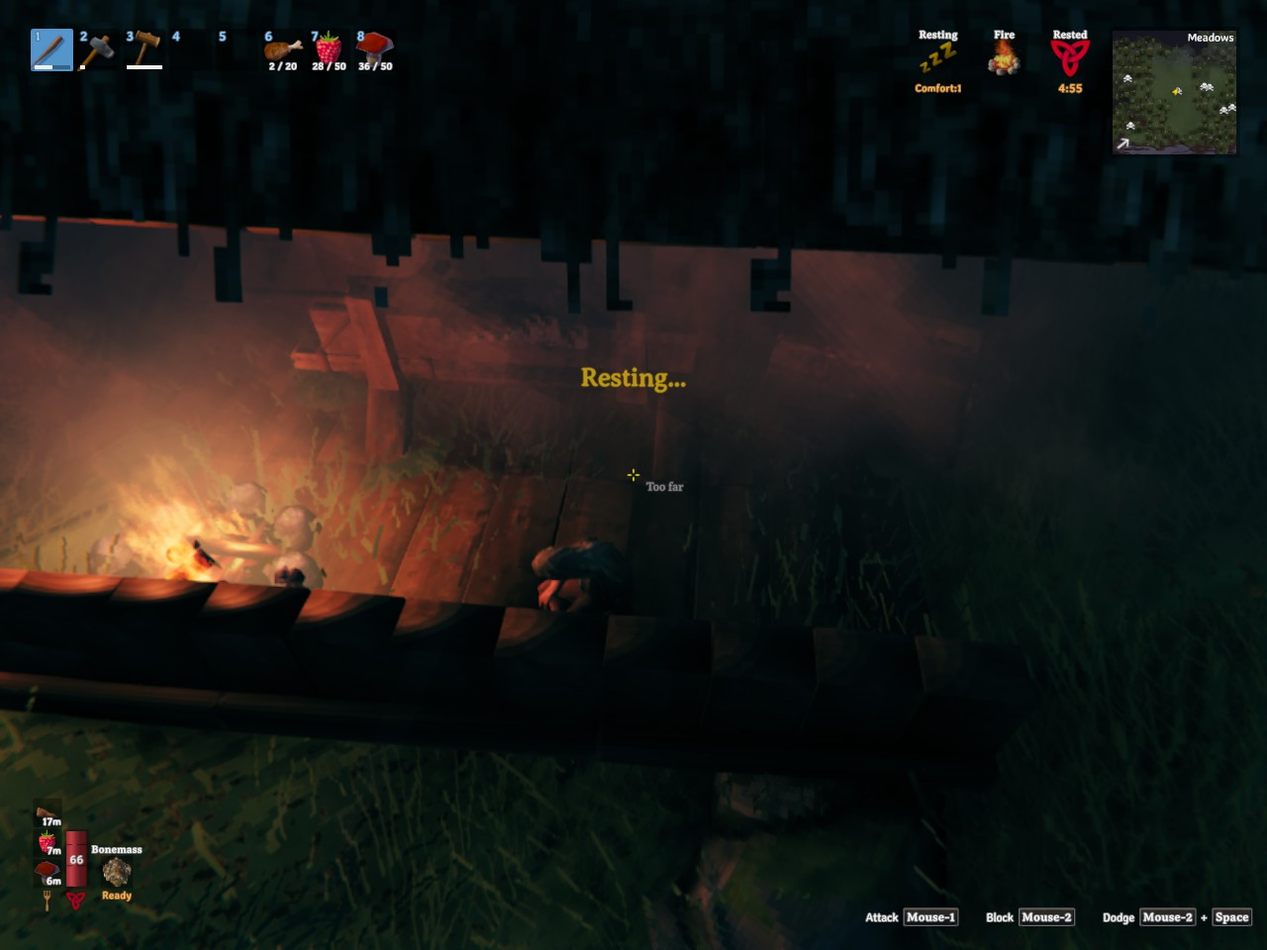Resting Message: (575, 359, 693, 403)
